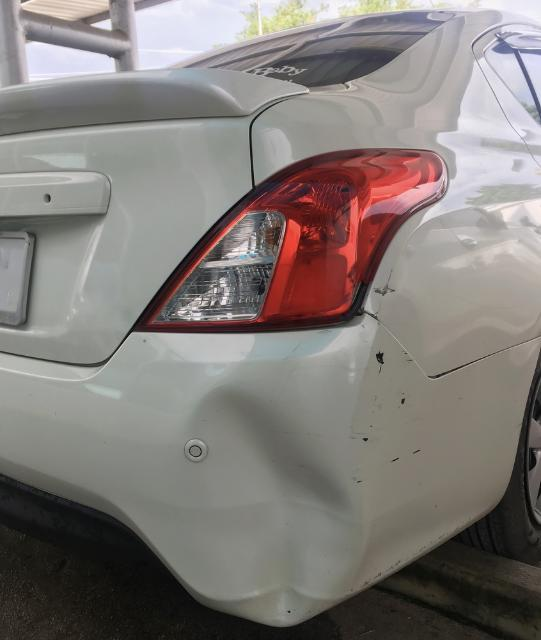dent: (183, 386, 363, 624)
